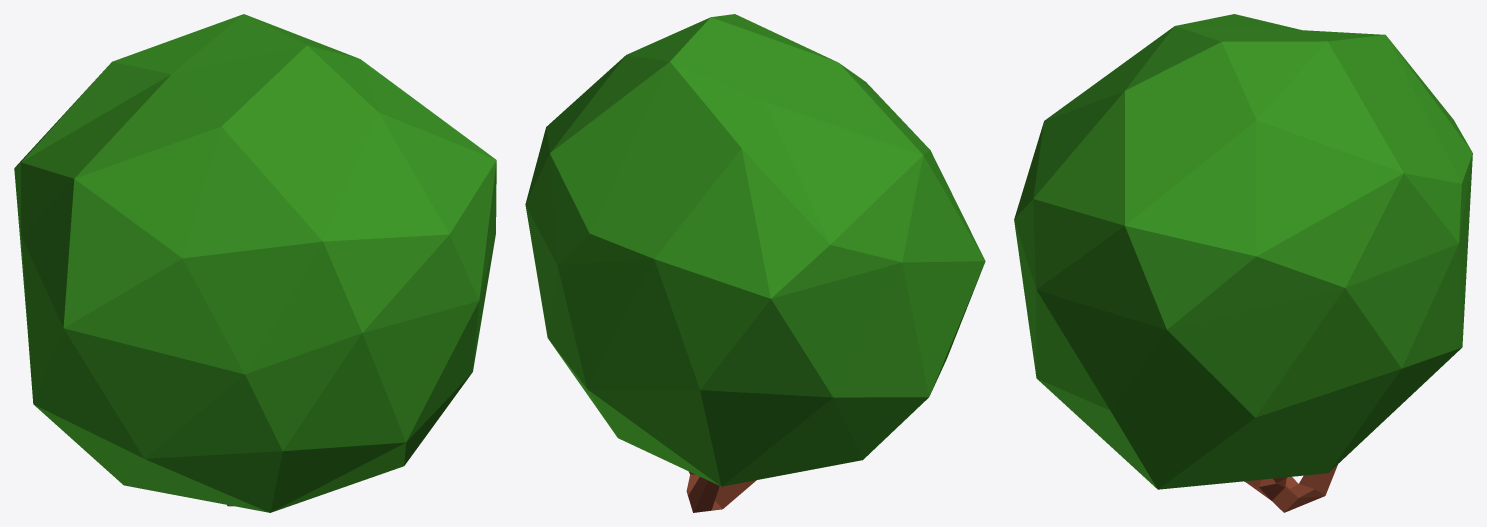
Rendered from bush1.fbx.
The picture shows the model from 3 angles, left to right: view 1: azimuth 30°, elevation 25°; view 2: azimuth 150°, elevation 25°; view 3: azimuth 270°, elevation 25°; orthographic projection. The views are drawn at different scales.
Visible parts, largest first — view 1: Icosphere; view 2: Icosphere, Cube; view 3: Icosphere, Cube.
Part boxes in pixels (box(x1,y1,x2,y2)): Icosphere: box(14, 14, 496, 512); Icosphere: box(525, 14, 985, 486); Cube: box(686, 471, 756, 512); Icosphere: box(1014, 14, 1472, 489); Cube: box(1244, 464, 1337, 512).
Bounding box in the file's own units: 116 × 123 × 107.
